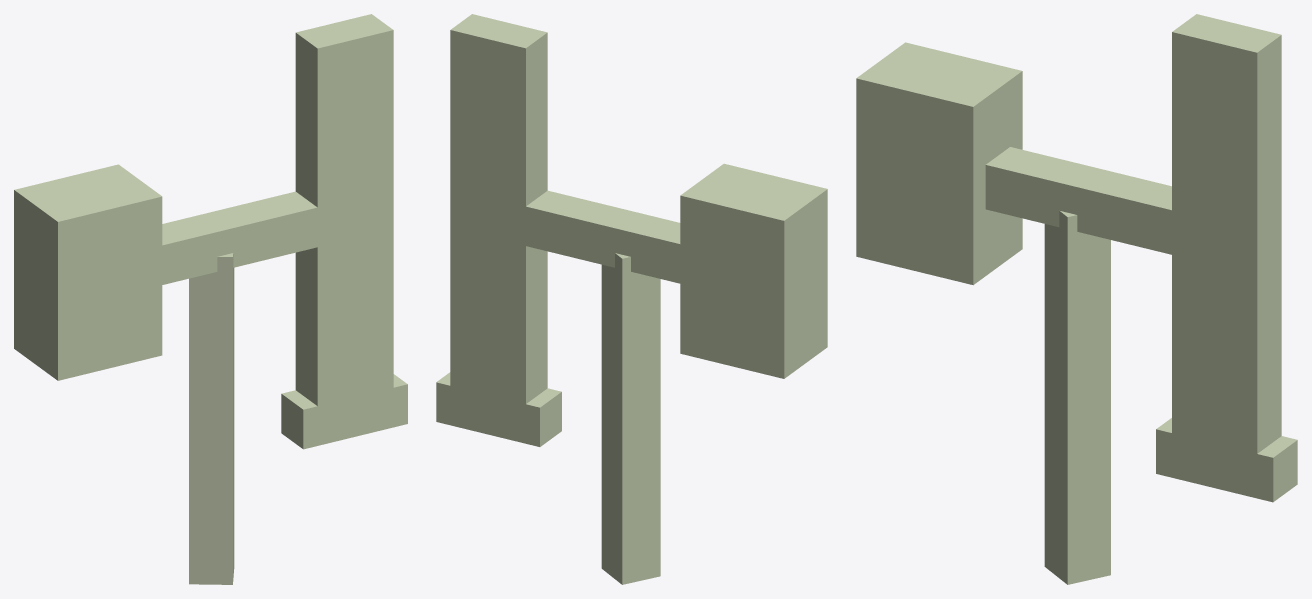
Rendered from furniture_signal_side_mount_bracket.glb.
3 renders of one model, left to right at view 1: azimuth 30°, elevation 25°; view 2: azimuth 150°, elevation 25°; view 3: azimuth 330°, elevation 25°, orthographic. The views are drawn at different scales.
Parts seen in each view (by area): view 1: mount_plate, pole_collar, brace, arm, lower_tab; view 2: mount_plate, pole_collar, brace, arm, lower_tab; view 3: mount_plate, pole_collar, brace, arm, lower_tab.
Boxes of the visible parts, left/top/right/bottom form: mount_plate: left=295, top=14, right=393, bottom=406; pole_collar: left=14, top=164, right=162, bottom=380; brace: left=189, top=253, right=234, bottom=584; arm: left=162, top=191, right=355, bottom=284; lower_tab: left=281, top=374, right=407, bottom=449; mount_plate: left=450, top=14, right=547, bottom=403; pole_collar: left=680, top=163, right=827, bottom=378; brace: left=601, top=253, right=660, bottom=584; arm: left=488, top=190, right=680, bottom=283; lower_tab: left=436, top=372, right=561, bottom=446; mount_plate: left=1172, top=14, right=1281, bottom=453; pole_collar: left=856, top=42, right=1022, bottom=285; brace: left=1044, top=210, right=1110, bottom=584; arm: left=985, top=147, right=1214, bottom=264; lower_tab: left=1156, top=418, right=1297, bottom=502.
Bounding box in the file's own units: 0.76 × 1.03 × 0.16.
